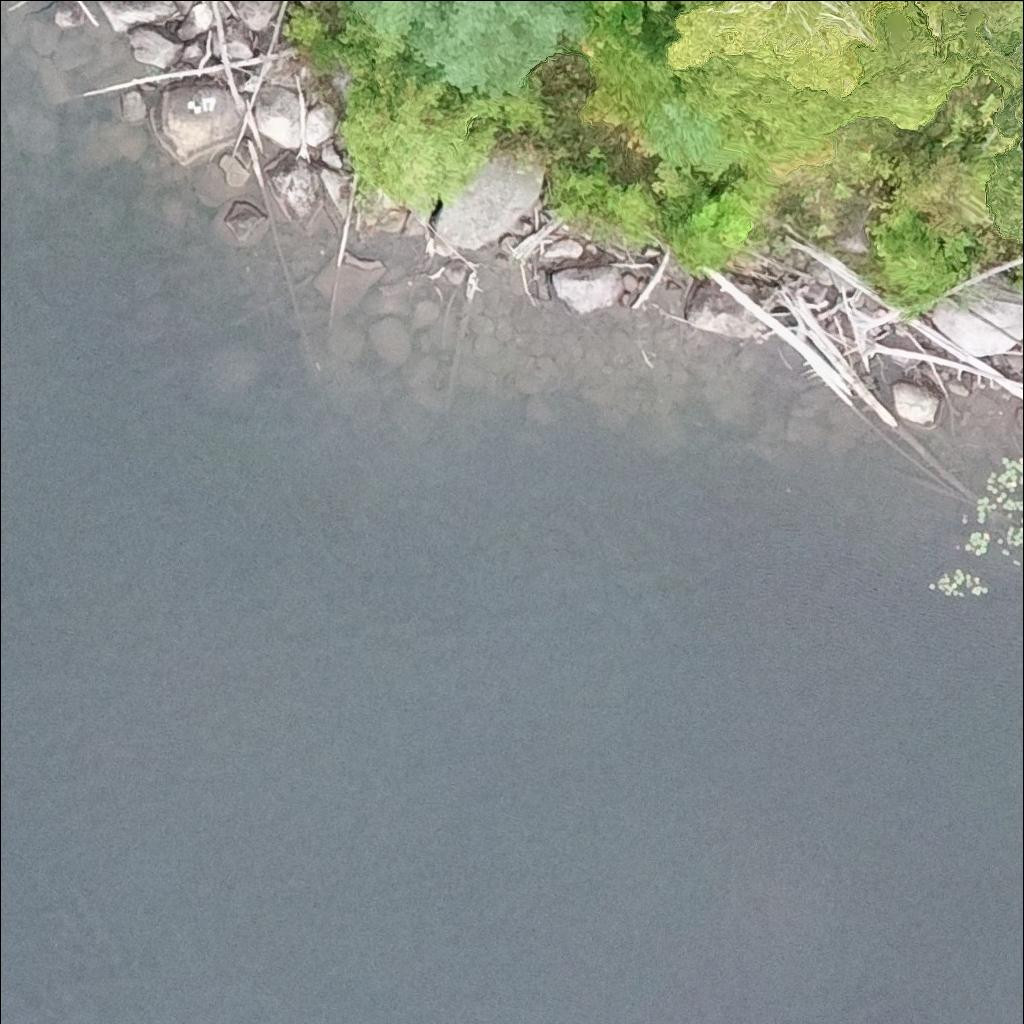crown: (667, 0, 995, 183), (285, 2, 556, 212), (352, 0, 587, 102), (336, 0, 408, 96), (947, 0, 1023, 51)
